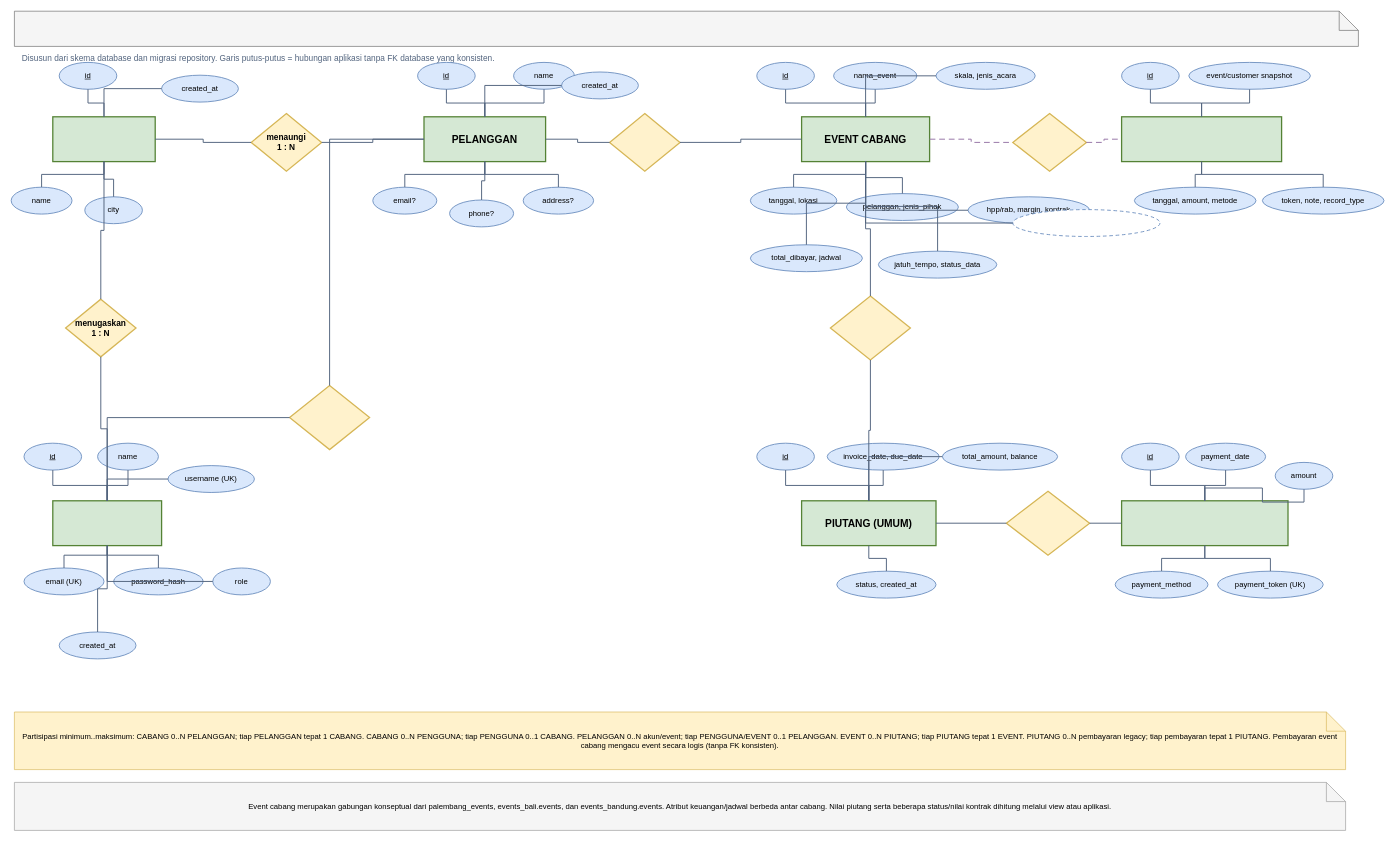
Image size: 1396x842. Some labels were removed from this diagram. Each missing label, with the centre of its shape:
"CABANG" goes at point (104, 139).
"dibayar dengan 1 : N" goes at point (1047, 523).
"ditagih dengan 1 : N" goes at point (870, 327).
"ERD Nusa Karsa Event — Notasi Chen" goes at point (686, 28).
"memesan 1 : N" goes at point (644, 142).
"memiliki akun 1 : N" goes at point (329, 417).
"mencatat 1 : N" goes at point (1049, 142).
"PEMBAYARAN (PIUTANG)" goes at point (1204, 523).
"PEMBAYARAN EVENT" goes at point (1201, 139).
"PENGGUNA" goes at point (107, 523).
"piutang/status dashboard (turunan)" goes at point (1086, 223).
